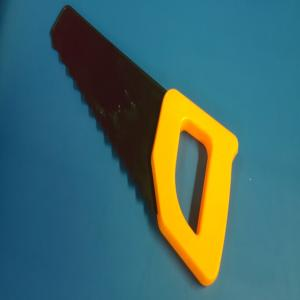serrote: (50, 5, 239, 287)
